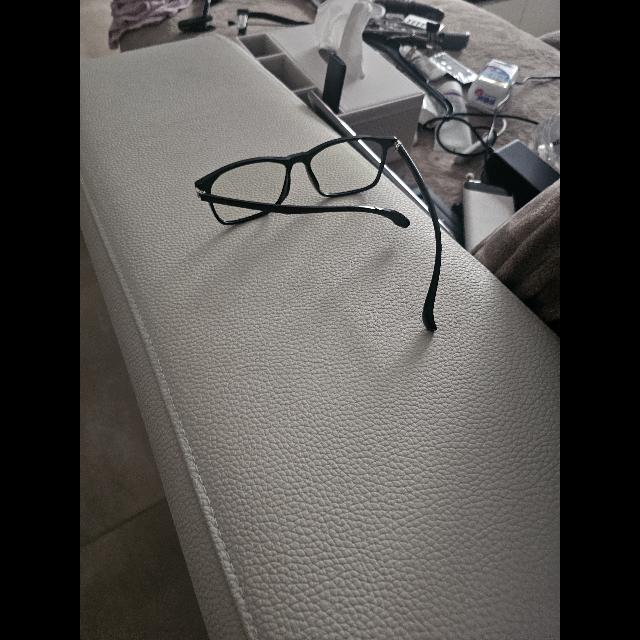glasses: (195, 135, 442, 331)
